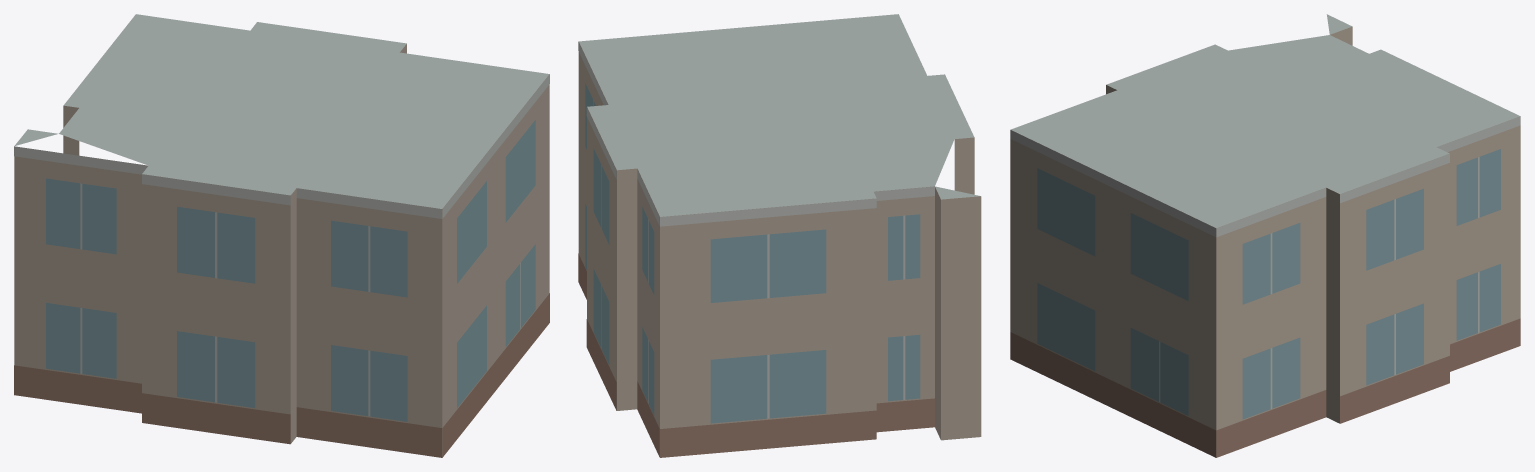
Rendered from survey-upis-32772111.glb.
The picture shows the model from 3 angles, left to right: view 1: azimuth 30°, elevation 25°; view 2: azimuth 150°, elevation 25°; view 3: azimuth 270°, elevation 25°; orthographic projection. The views are drawn at different scales.
Parts seen in each view (by area): view 1: survey-upis-32772111.tmp; view 2: survey-upis-32772111.tmp; view 3: survey-upis-32772111.tmp.
Boxes of the visible parts, x1,y1,x2,y2 form: survey-upis-32772111.tmp: (14, 14, 549, 457); survey-upis-32772111.tmp: (578, 14, 981, 457); survey-upis-32772111.tmp: (1010, 14, 1520, 457).
Bounding box in the file's own units: 12.22 × 6.1 × 12.3.
